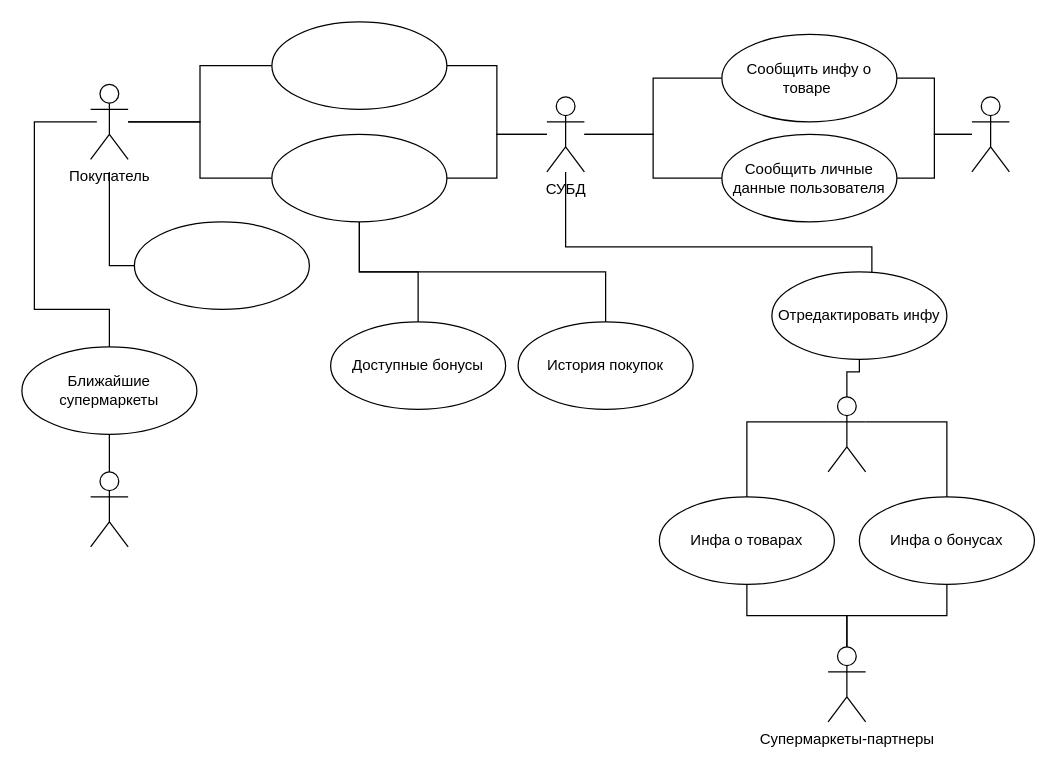
The diagram is 1056 pixels wide and 770 high, and some of its shapes have lost their labels. Each missing label, with the box of its shape:
БД: (971, 96, 1009, 172)
Карта: (89, 471, 128, 547)
Личный кабинет: (271, 133, 447, 222)
Менеджер: (827, 396, 866, 472)
Посмотреть инфу о товаре: (271, 21, 447, 109)
Собрать корзину товаров: (133, 221, 309, 309)
